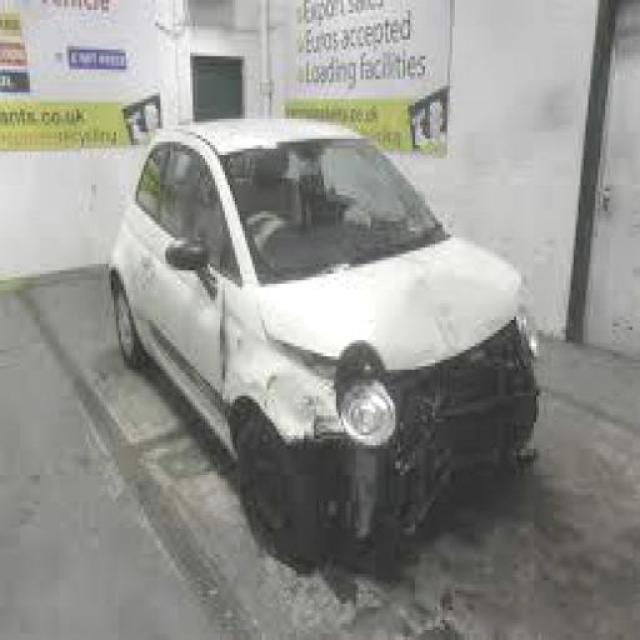car damage: (219, 269, 542, 540)
